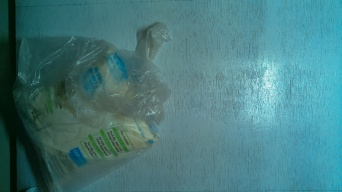m: (21, 46, 165, 188)
